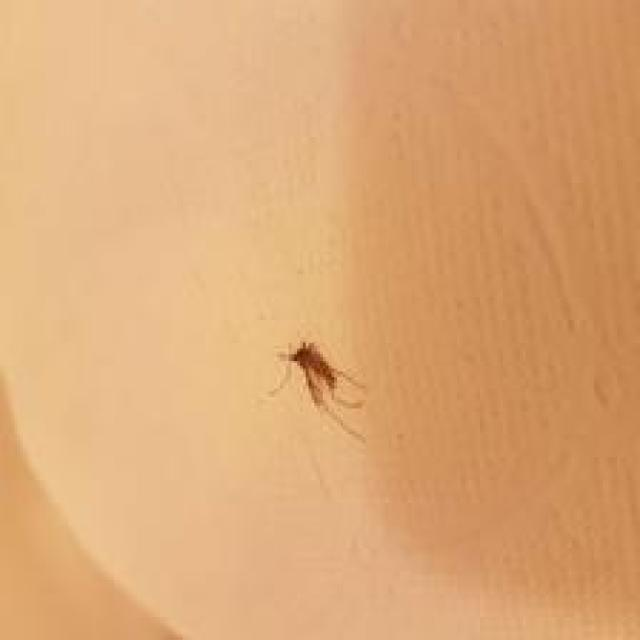Culex: (267, 339, 367, 444)
